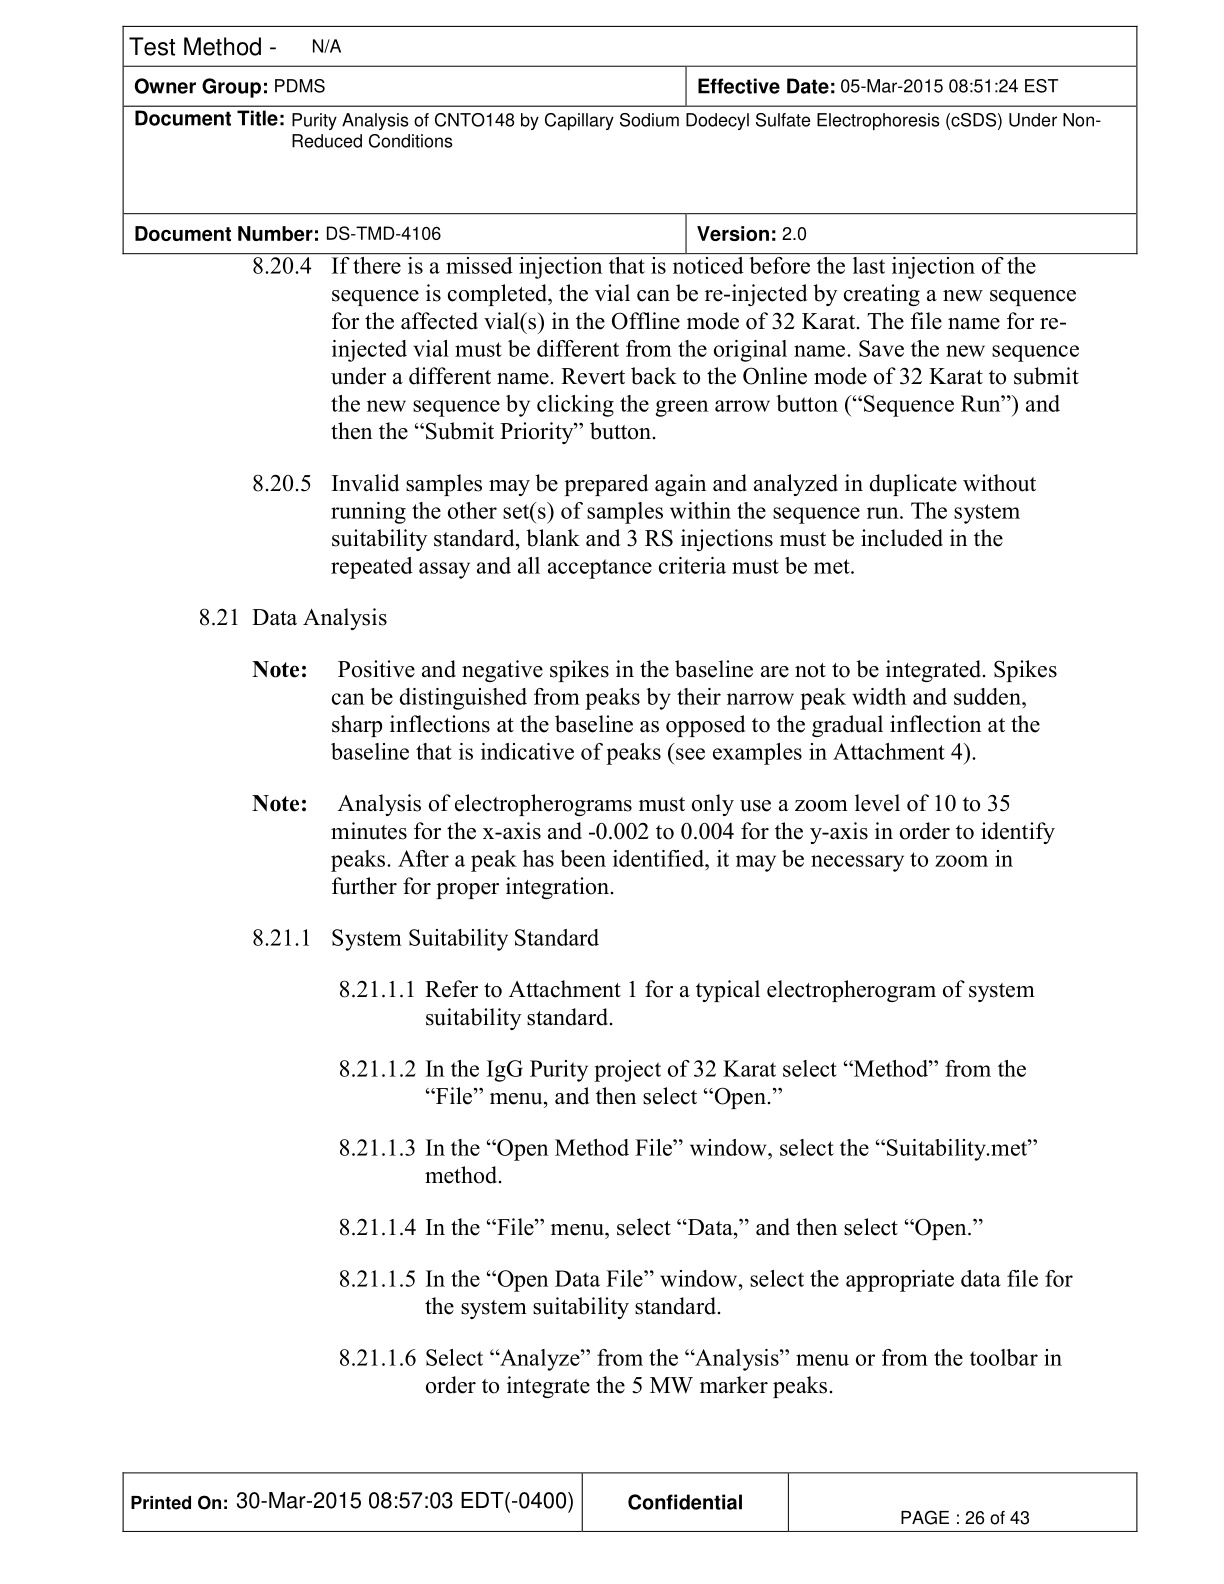full_lined: (120, 1471, 1139, 1533)
merged_cells: (121, 24, 1139, 255)
